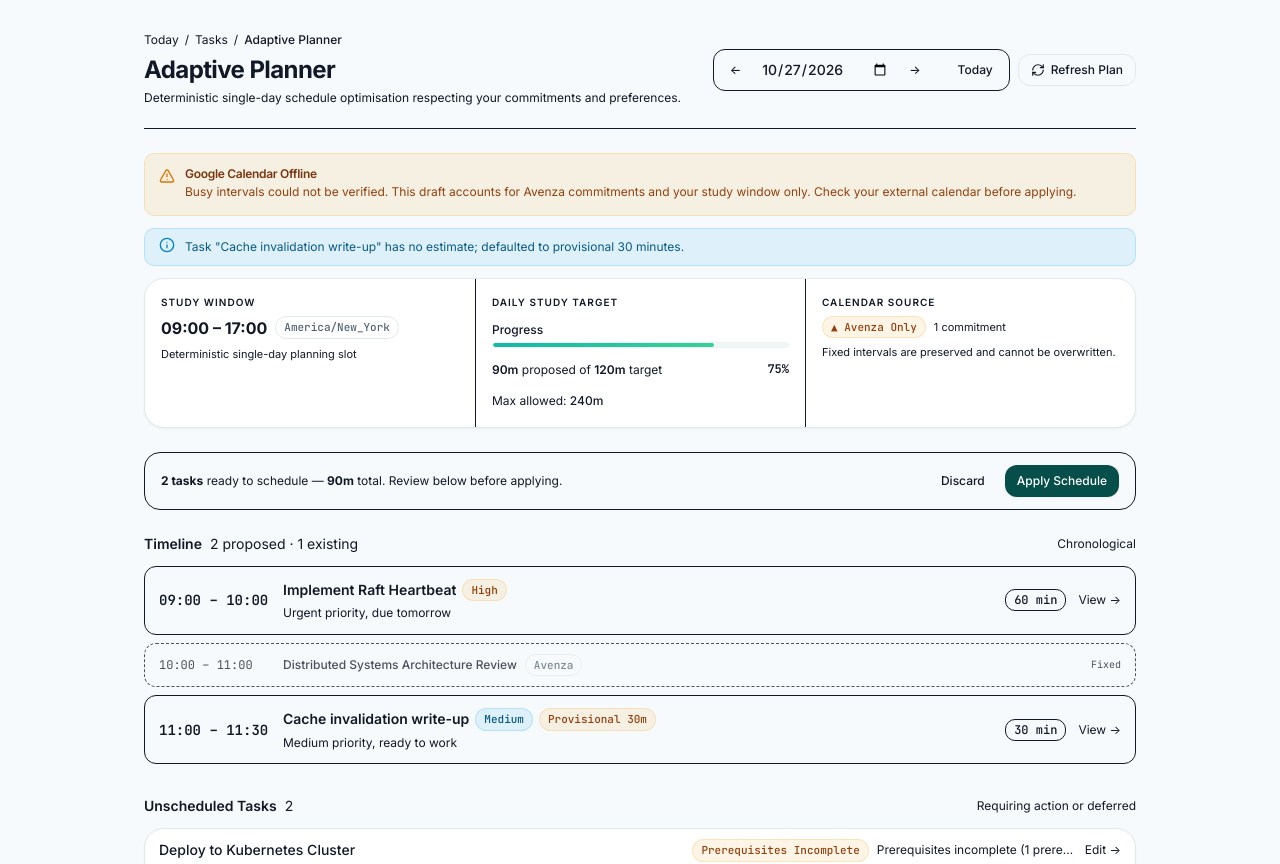
Test: PlannerPage & /planner Route › 8. displays conflict/stale proposal error banner with refresh action when mutation rejects
The width and height of the screenshot is (1280, 864).
Click the button "Apply Schedule": (1062,480) [1005, 464, 1119, 496]
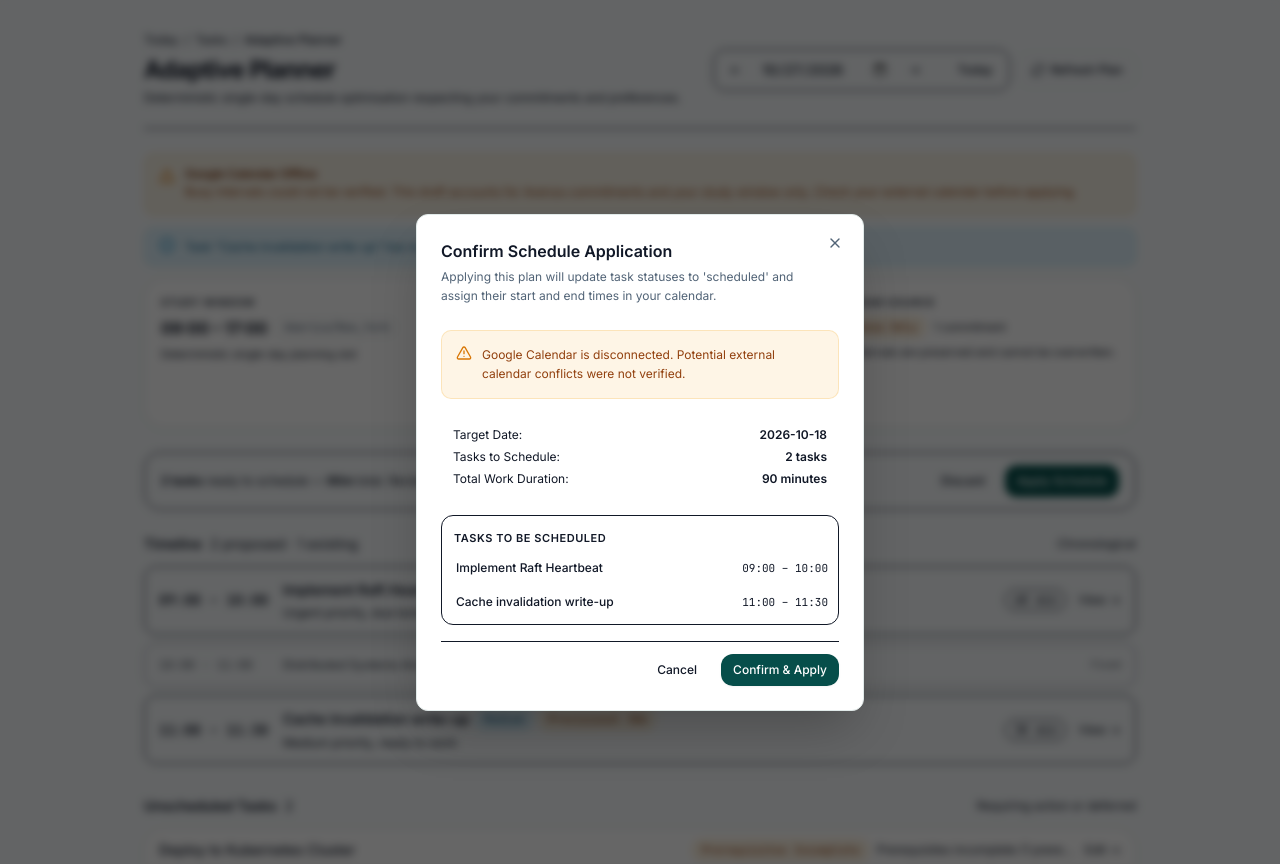
Click the button "Confirm & Apply": (780,670) [721, 654, 839, 686]
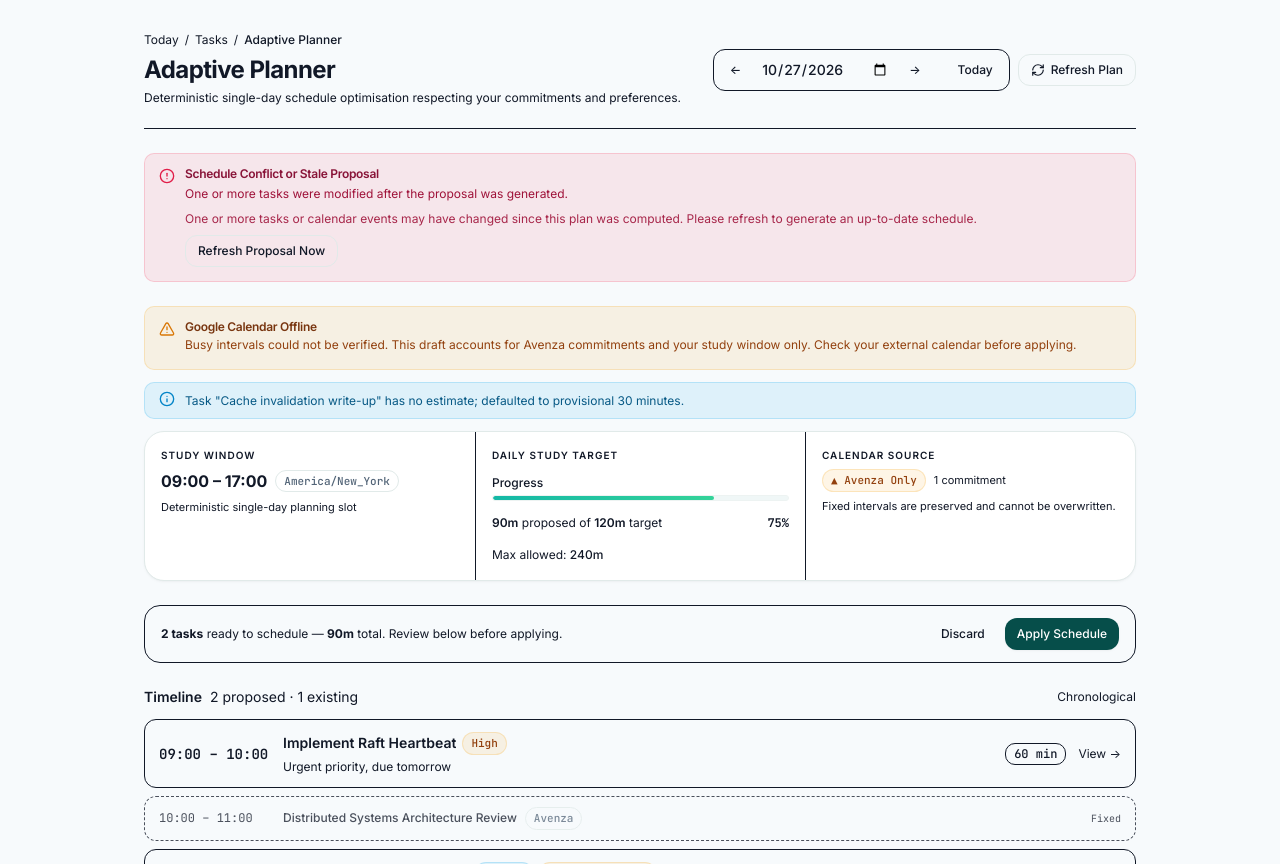
Expected: the heading "Schedule Conflict or Stale Proposal" is shown, [185, 166, 379, 180]
Expected: the button "Refresh Proposal Now" is shown, [185, 235, 338, 267]
